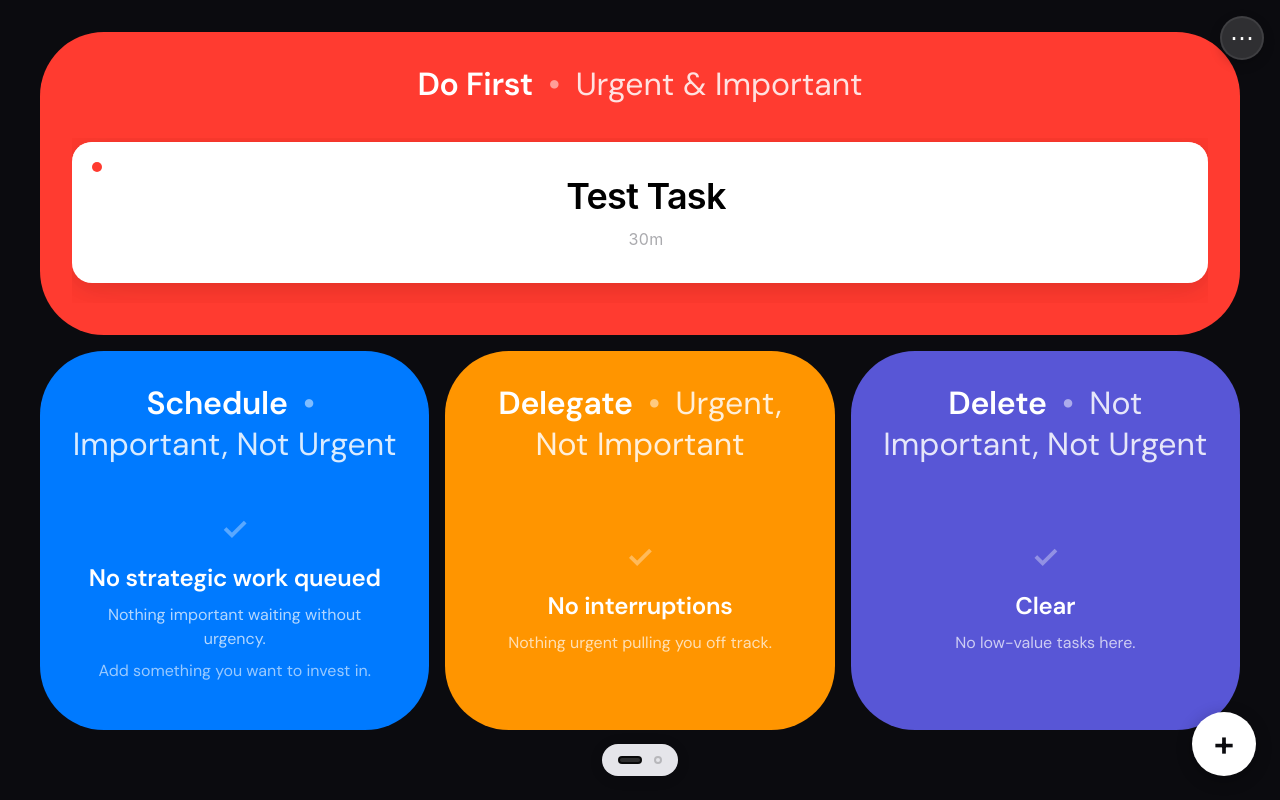
Right Now View › renders Right Now view with header title and helper text
The width and height of the screenshot is (1280, 800).
Switch to Right Now view
Step 1. Click the button with test id "page-dot-rightNow" → (658, 760), box [654, 756, 662, 764]
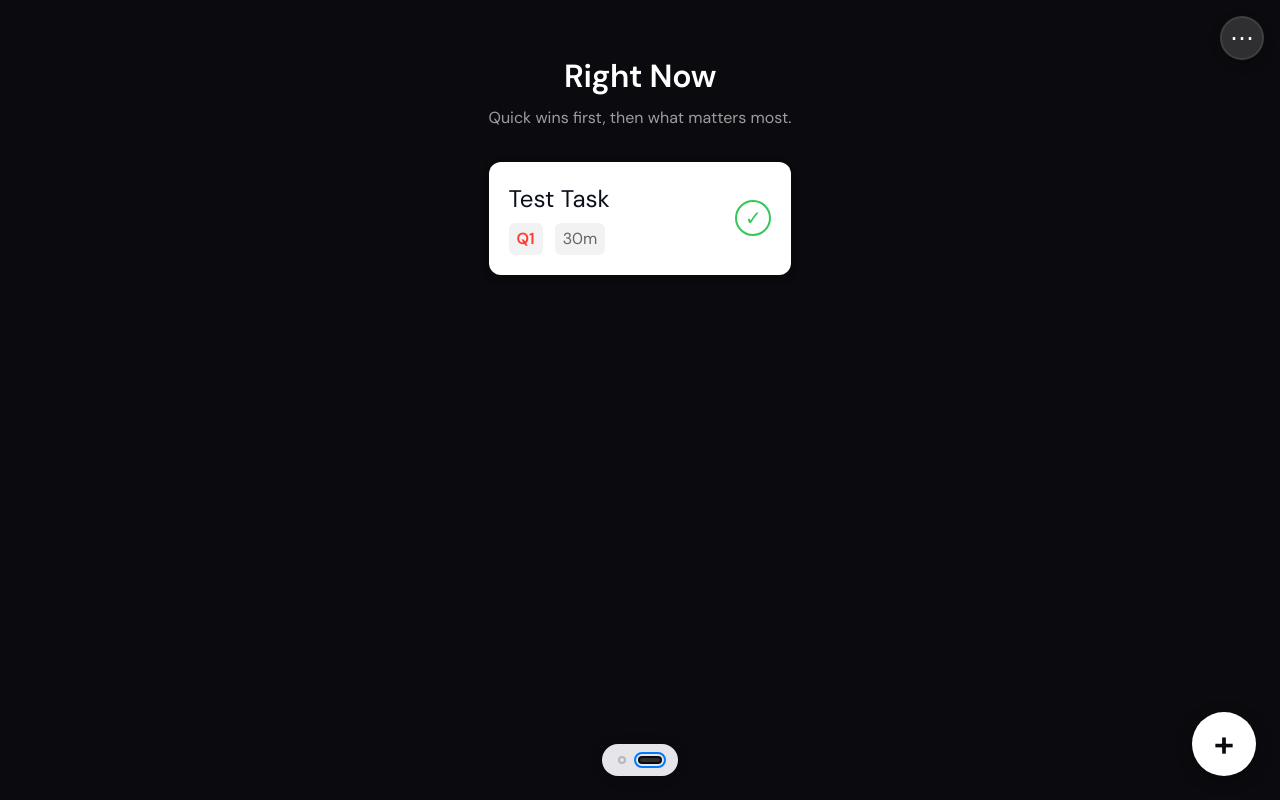
Check: the element with test id "right-now-view" is shown, box [464, 32, 815, 299]
Check: the heading "Right Now" is shown, box [564, 55, 716, 97]
Check: the text "Quick wins first, then what matters most." is shown, box [488, 106, 791, 130]
